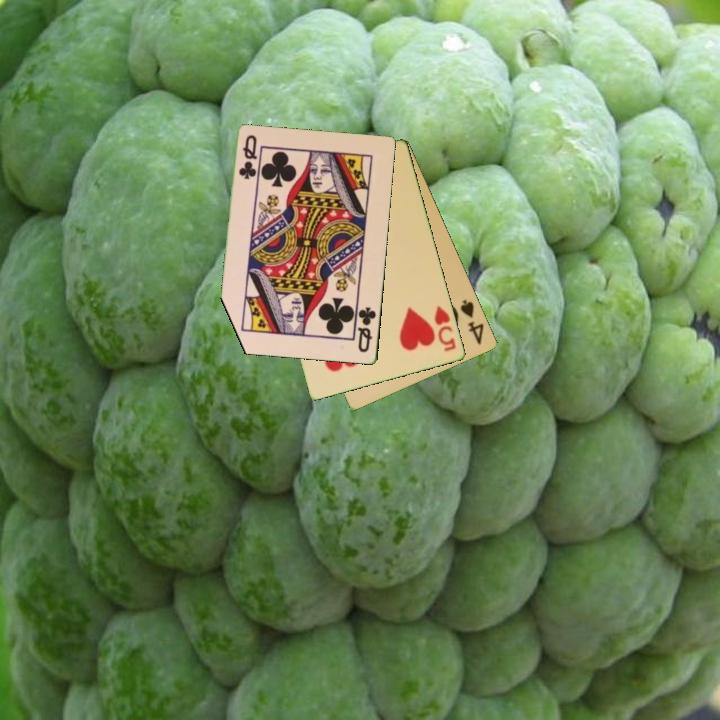4s: (457, 296, 487, 348)
5h: (431, 302, 459, 355)
Qc: (235, 132, 260, 183), (355, 304, 379, 355)
